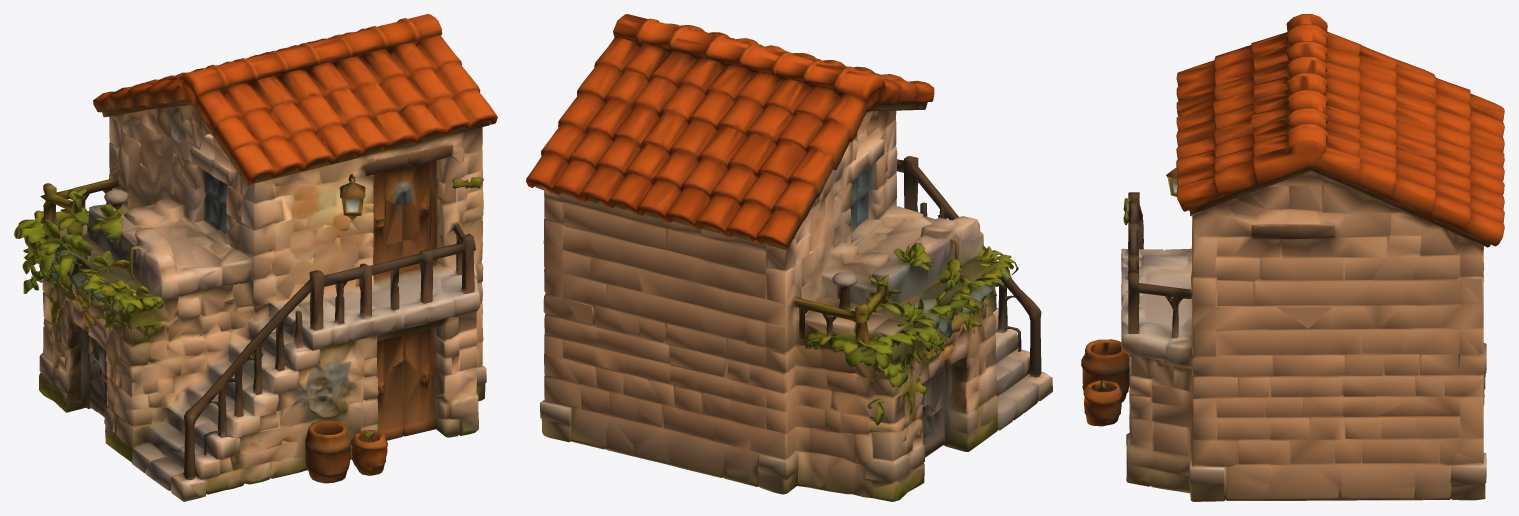
Rendered from Piece06.fbx.
The picture shows the model from 3 angles, left to right: view 1: azimuth 30°, elevation 25°; view 2: azimuth 150°, elevation 25°; view 3: azimuth 270°, elevation 25°; orthographic projection. The views are drawn at different scales.
Parts seen in each view (by area): view 1: Piece06; view 2: Piece06; view 3: Piece06.
Part boxes in pixels (left/top/right/bottom): Piece06: left=14, top=14, right=497, bottom=501; Piece06: left=526, top=14, right=1052, bottom=501; Piece06: left=1081, top=14, right=1504, bottom=501.
Bounding box in the file's own units: 99.96 × 90.39 × 94.35.
Materials: 1 (1 with a texture image).
